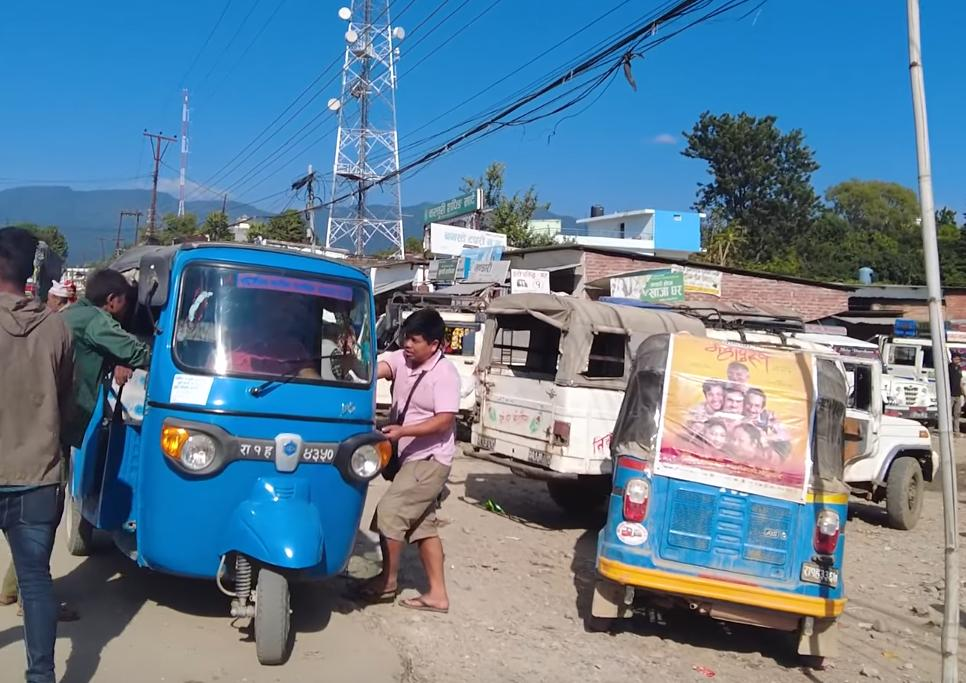auto_rickshaw: (60, 235, 394, 666), (585, 324, 856, 665)
